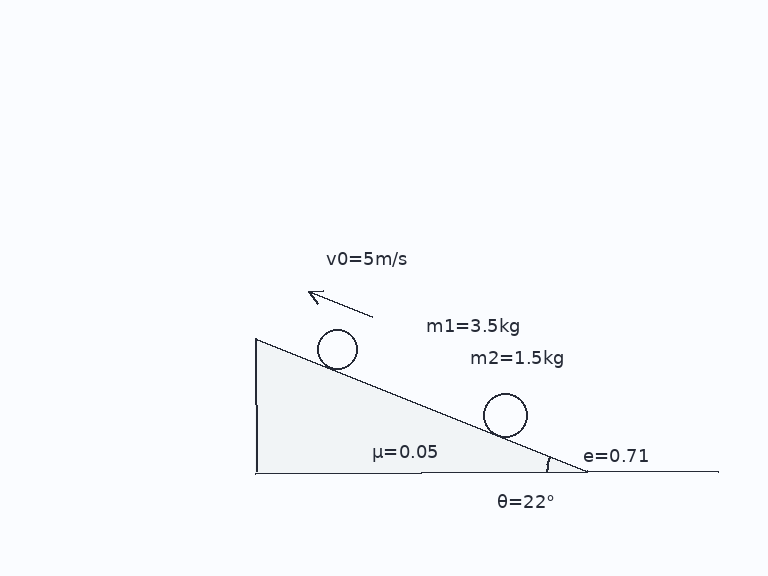ball: (481, 391, 529, 439), (315, 327, 359, 371)
ramp: (254, 336, 589, 474)
